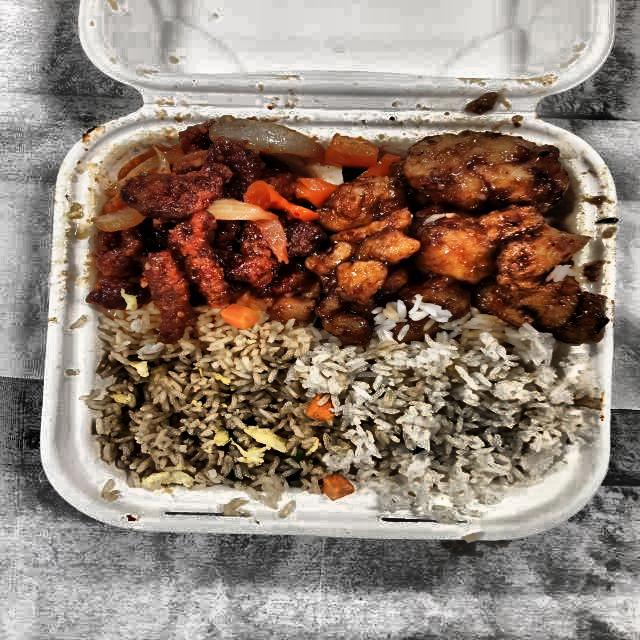Food: (322, 122, 614, 342), (72, 120, 328, 329), (323, 316, 582, 518), (104, 319, 342, 500)
